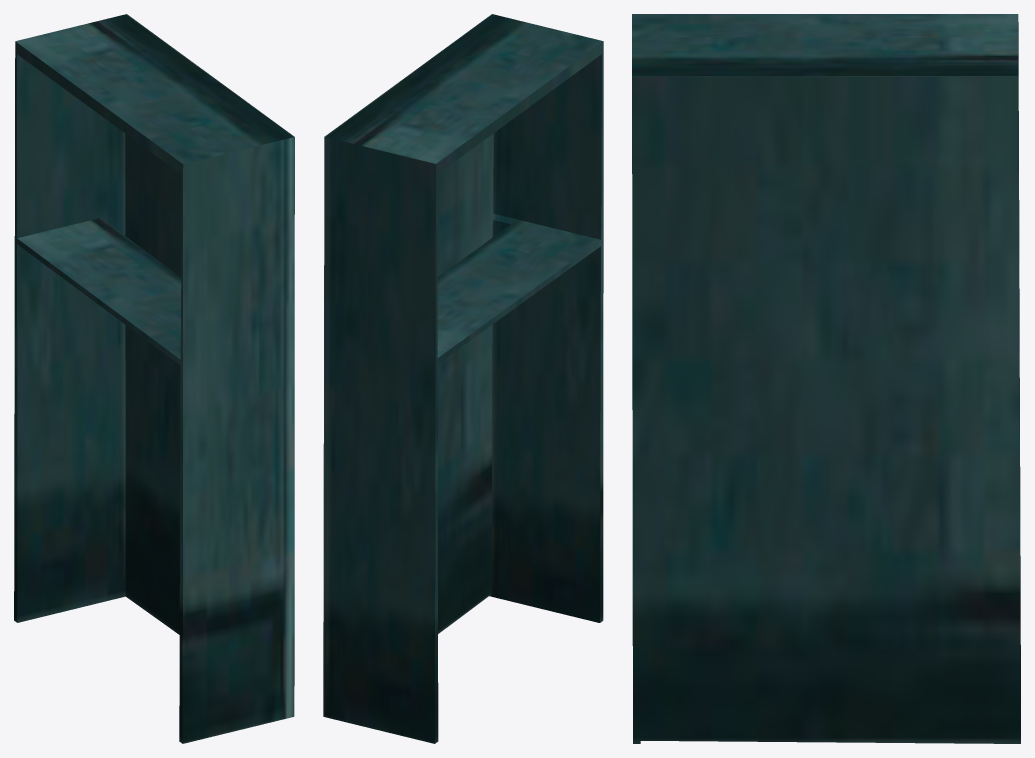
Rendered from CabinetPickup.obj.
3 renders of one model, left to right at view 1: azimuth 30°, elevation 25°; view 2: azimuth 150°, elevation 25°; view 3: azimuth 270°, elevation 25°, orthographic. The views are drawn at different scales.
Visible parts, largest first — view 1: CabinetPickup_0, CabinetPickup_1; view 2: CabinetPickup_0, CabinetPickup_1; view 3: CabinetPickup_0, CabinetPickup_1.
Boxes of the visible parts, bbox=[...] form: CabinetPickup_0: bbox=[15, 14, 294, 743]; CabinetPickup_1: bbox=[14, 44, 183, 743]; CabinetPickup_0: bbox=[323, 14, 603, 743]; CabinetPickup_1: bbox=[435, 43, 603, 743]; CabinetPickup_0: bbox=[632, 14, 1020, 743]; CabinetPickup_1: bbox=[632, 77, 1020, 743].
Size of the model in its own units: 0.48 by 2.38 by 1.26.
